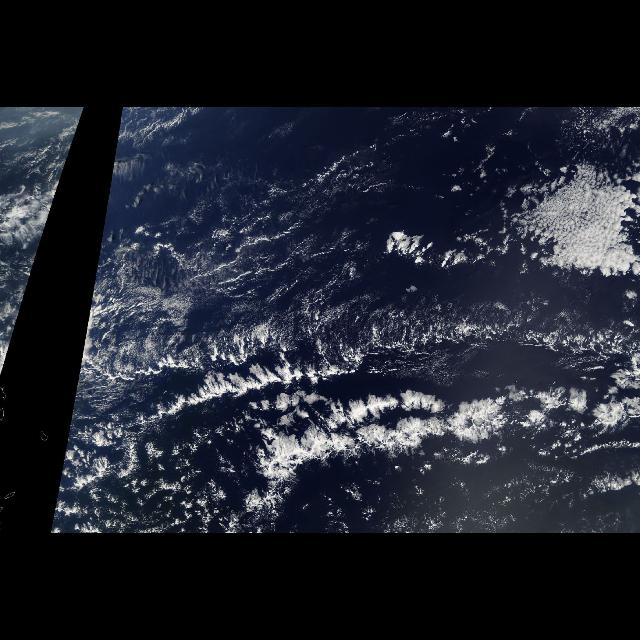Fish: (104, 278, 640, 467)
Sugar: (161, 165, 375, 323)
